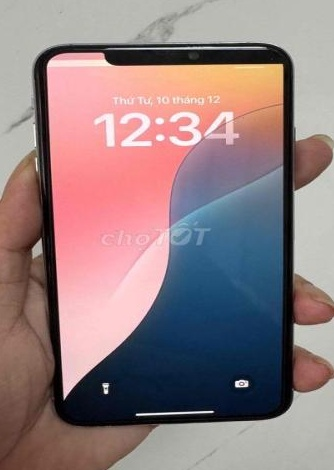screen_defect: (203, 38, 289, 67), (37, 56, 117, 72)
